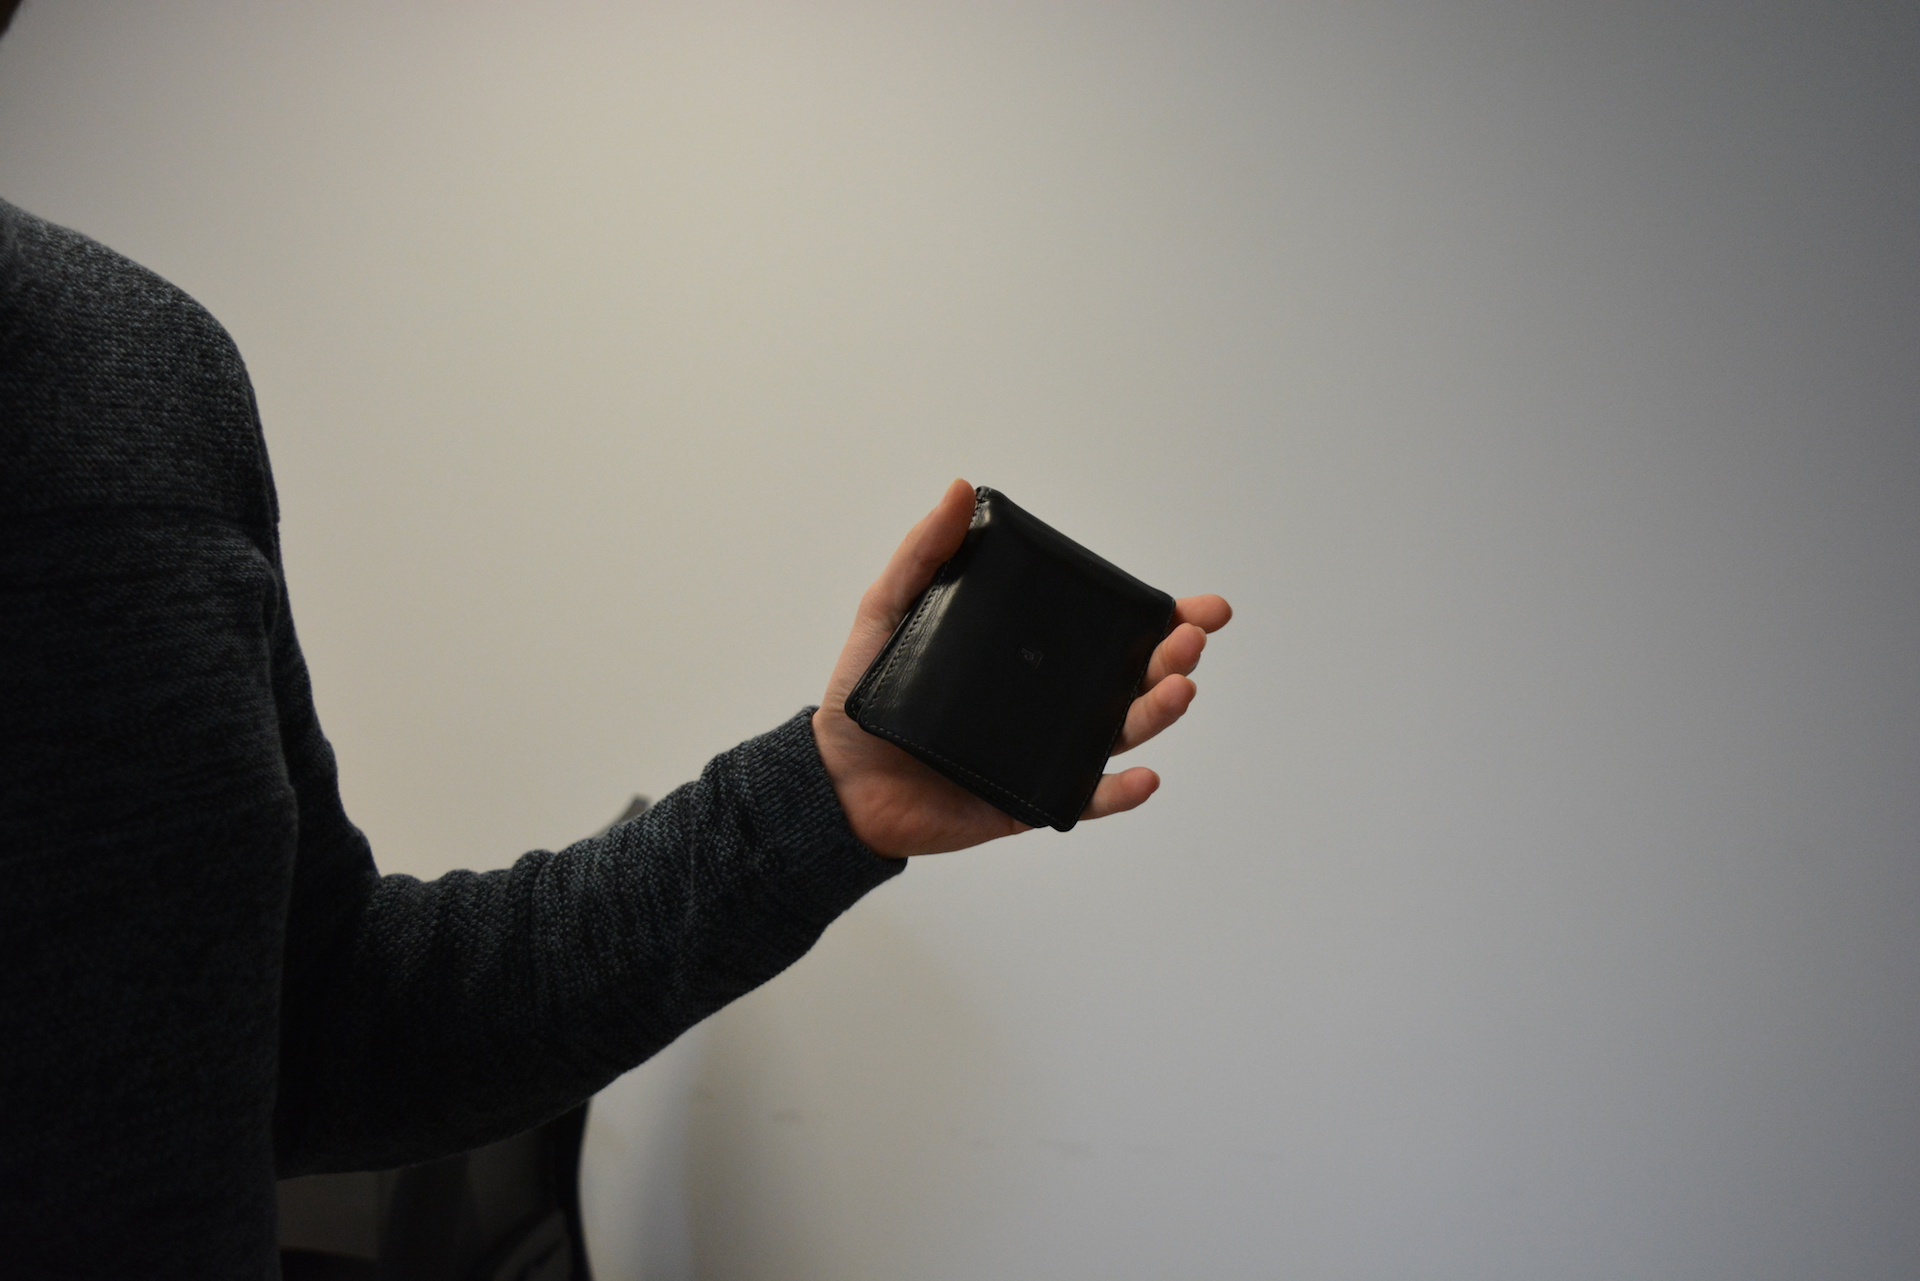monedero: (843, 485, 1178, 834)
